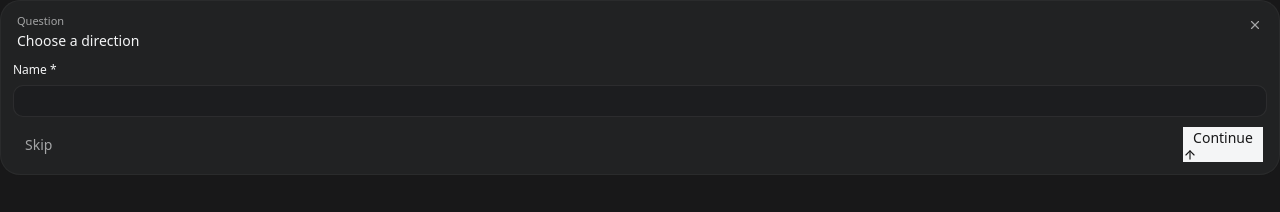
ElicitationDock › keeps required fields actionable instead of sending an invalid form
The image size is (1280, 212).
Step 1. Click the button "Continue" → (1223, 145), box [1183,128,1263,162]
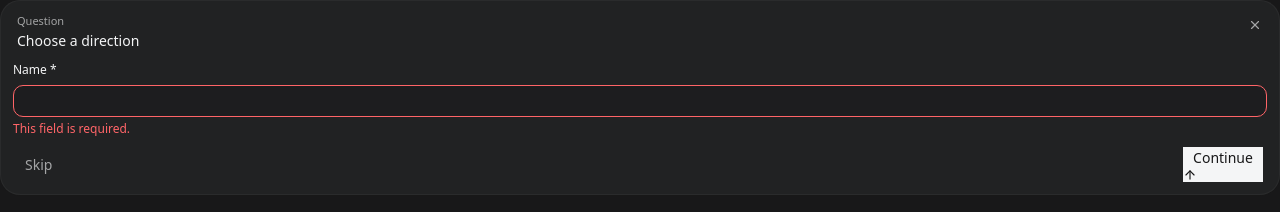
Check: the text "This field is required." is shown, box [13,120,130,138]
